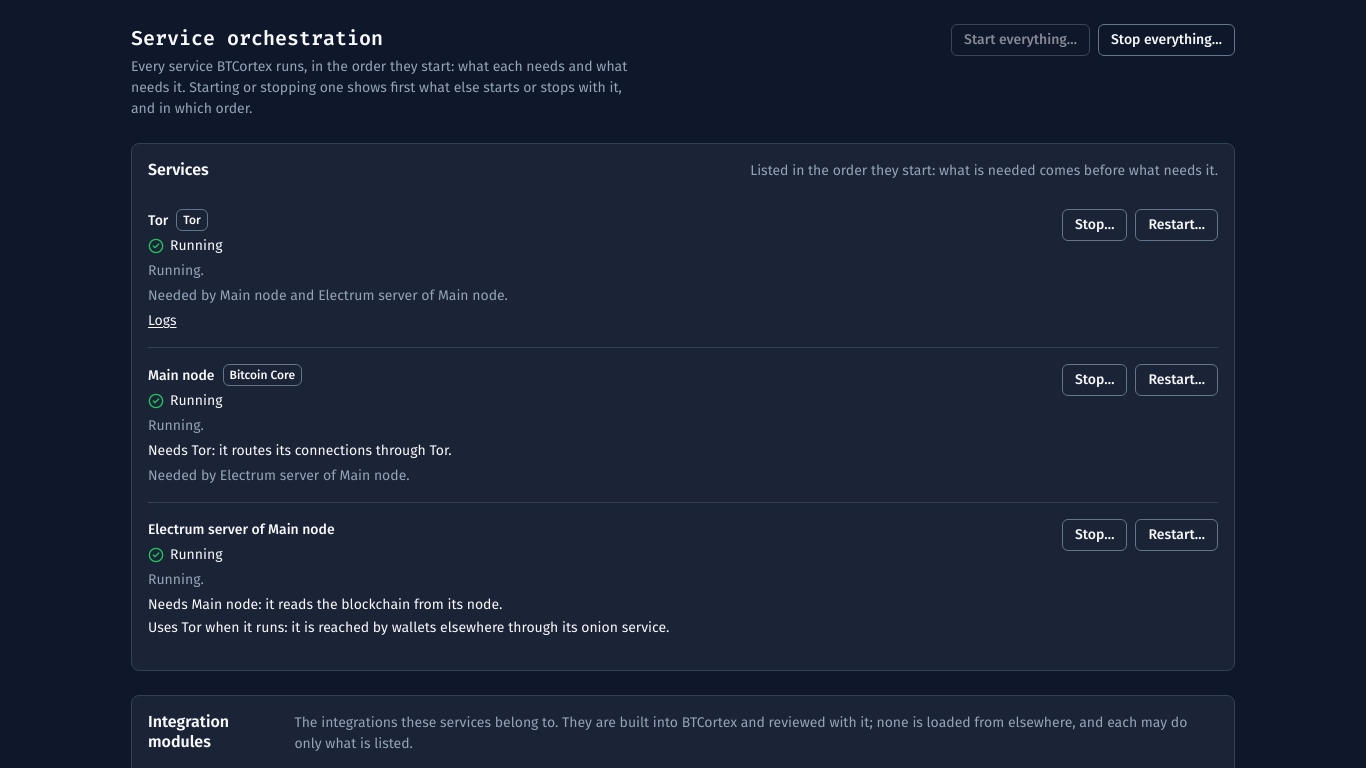
Test case: service orchestration › says why something cannot be done, offering nothing to confirm
The image size is (1366, 768).
Click the 2nd button "Restart…": (1177, 380) [1136,364,1218,396]
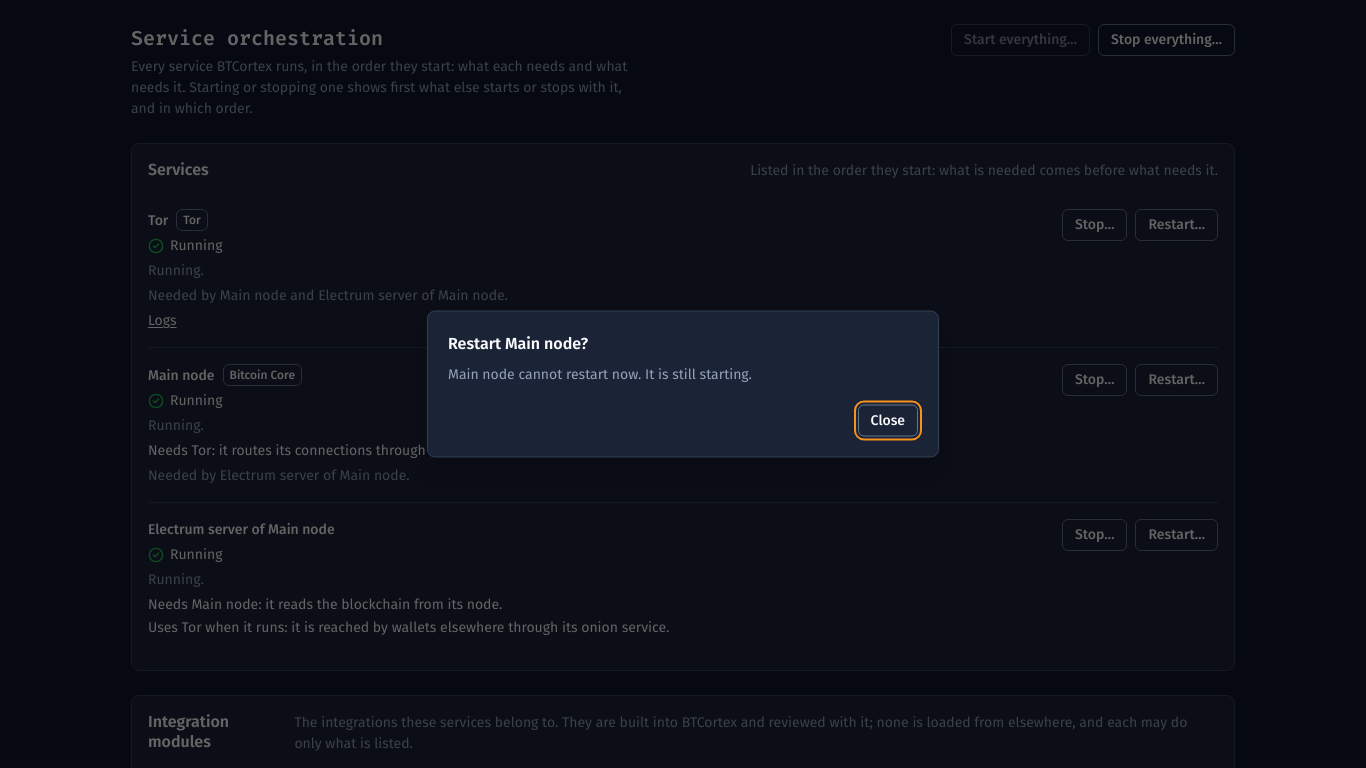
Check: the text "Main node cannot restart now. It is still starting." is shown, box [448,366,752,382]
Check: the button "Close" is shown, box [858,404,918,436]
